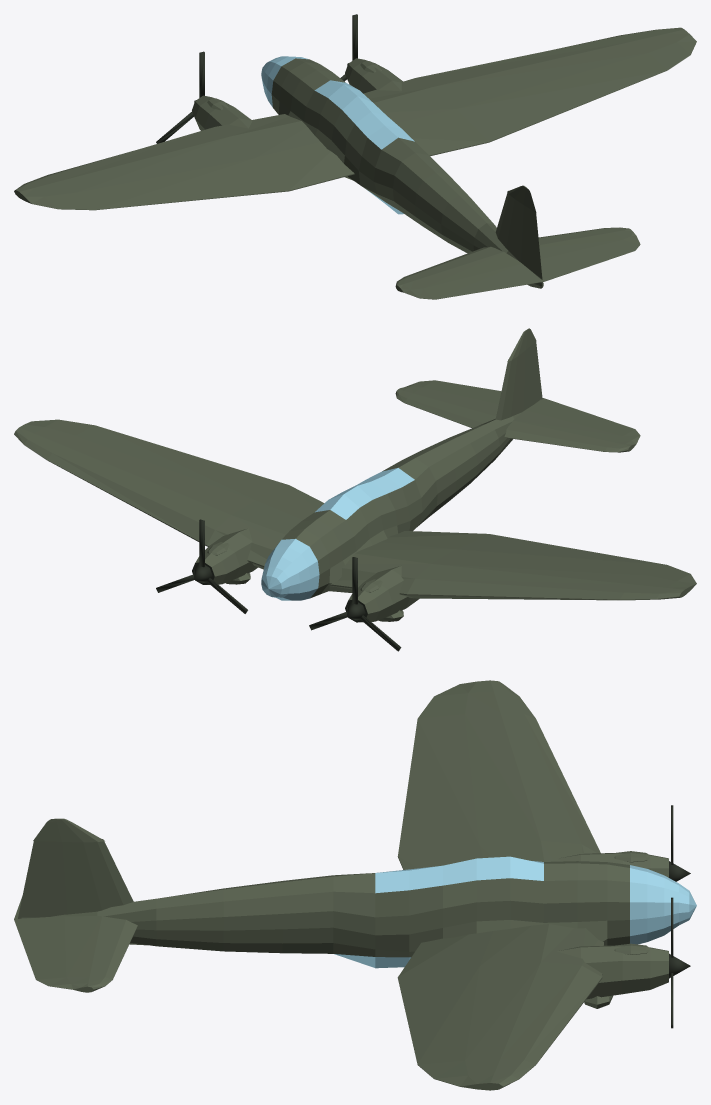
3 renders of one model, top to bottom at view 1: azimuth 30°, elevation 25°; view 2: azimuth 150°, elevation 25°; view 3: azimuth 270°, elevation 25°, orthographic. The views are drawn at different scales.
Parts seen in each view (by area): view 1: HE111_Wing, HE111_Fuselage, HE111_Tailplane, HE111_Fin, HE111_NacR, HE111_NacL; view 2: HE111_Wing, HE111_Fuselage, HE111_Tailplane, HE111_Fin, HE111_NacL, HE111_NacR; view 3: HE111_Wing, HE111_Fuselage, HE111_Tailplane, HE111_Fin, HE111_NacR, HE111_FinTip, HE111_NacL.
Boxes of the visible parts, x1,y1,x2,y2 form: HE111_Wing: [14, 27, 696, 210]; HE111_Fuselage: [261, 56, 543, 288]; HE111_Tailplane: [395, 227, 640, 299]; HE111_Fin: [495, 190, 542, 279]; HE111_NacR: [345, 58, 402, 93]; HE111_NacL: [192, 95, 252, 130]; HE111_Wing: [14, 419, 696, 600]; HE111_Fuselage: [261, 399, 541, 600]; HE111_Tailplane: [395, 380, 640, 452]; HE111_Fin: [495, 341, 542, 420]; HE111_NacL: [345, 565, 419, 622]; HE111_NacR: [192, 528, 257, 584]; HE111_Wing: [397, 680, 603, 1090]; HE111_Fuselage: [20, 856, 696, 968]; HE111_Tailplane: [14, 896, 137, 992]; HE111_Fin: [18, 839, 133, 918]; HE111_NacR: [557, 945, 668, 999]; HE111_FinTip: [33, 818, 104, 842]; HE111_NacL: [557, 853, 668, 877].
Bounding box in the file's own units: 22.6 × 3.91 × 16.21.
